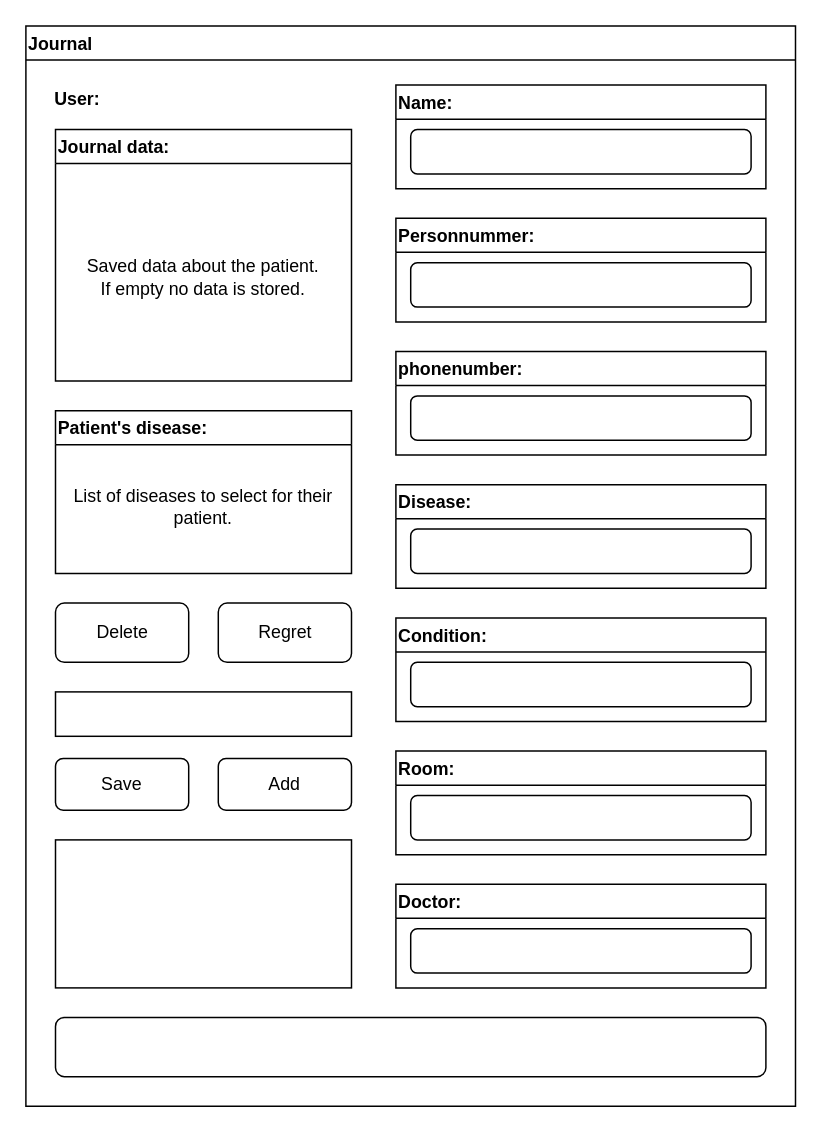
This 821x1132 diagram has some shape labels left out. Here are the shapes that lost their labels. From the top down, the centre of each, then its label:
point (203, 713): "Shows success or not success"
point (203, 913): Comment for the user...
point (410, 1046): Return to menu
